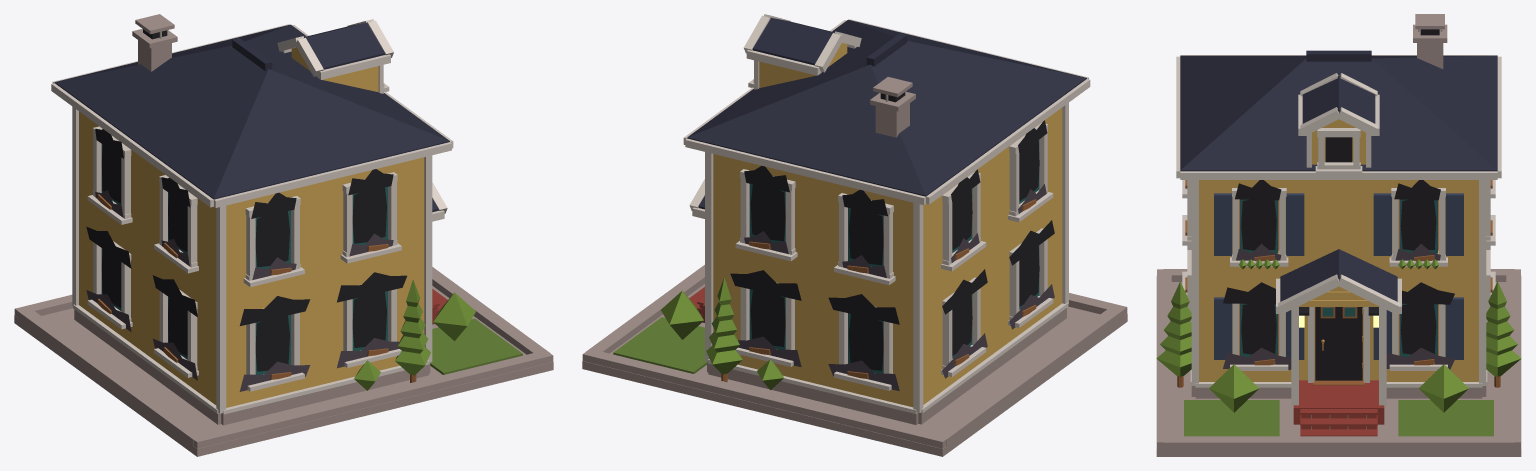
The model's file is bld.house-d.w3.lod2.glb.
3 views of the same model, side by side, from view 1: azimuth 30°, elevation 25°; view 2: azimuth 150°, elevation 25°; view 3: azimuth 270°, elevation 25° (orthographic).
Visible parts, largest first — view 1: object 6, roof, body; view 2: object 6, body, roof; view 3: object 6, roof, body, door_front, interior.
Part boxes in pixels (x1=…): object 6: x1=14, y1=126, x2=553, y2=456; roof: x1=51, y1=14, x2=453, y2=221; body: x1=72, y1=106, x2=447, y2=425; object 6: x1=582, y1=120, x2=1127, y2=456; body: x1=689, y1=103, x2=1068, y2=424; roof: x1=683, y1=14, x2=1090, y2=218; object 6: x1=1156, y1=180, x2=1521, y2=456; roof: x1=1176, y1=14, x2=1501, y2=313; body: x1=1190, y1=180, x2=1487, y2=436; door_front: x1=1315, y1=307, x2=1363, y2=380; interior: x1=1239, y1=199, x2=1438, y2=377.
Bounding box in the file's own units: 9 × 7.5 × 8.02.
